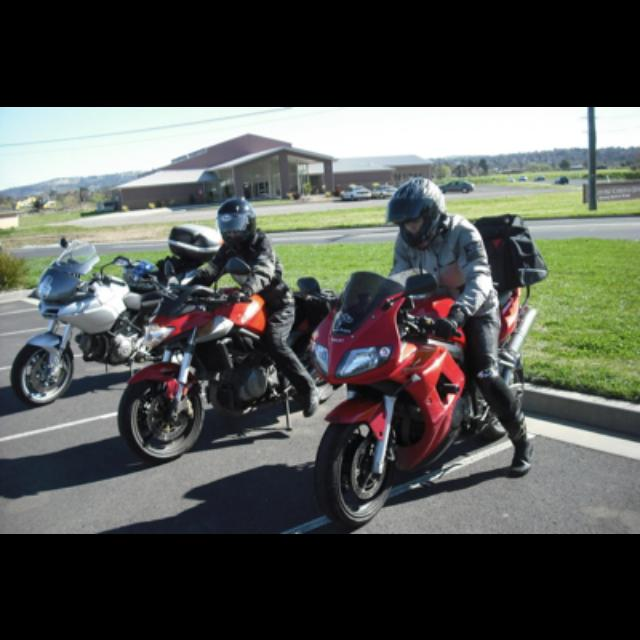With Helmet: (379, 174, 456, 252), (209, 194, 267, 253)
